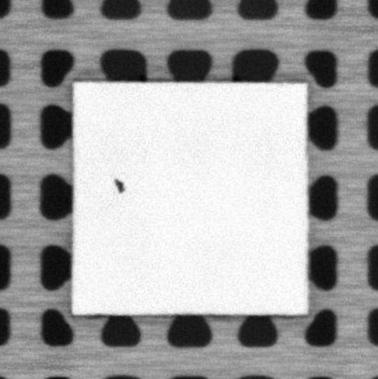DIE_INK: (112, 175, 125, 195)
